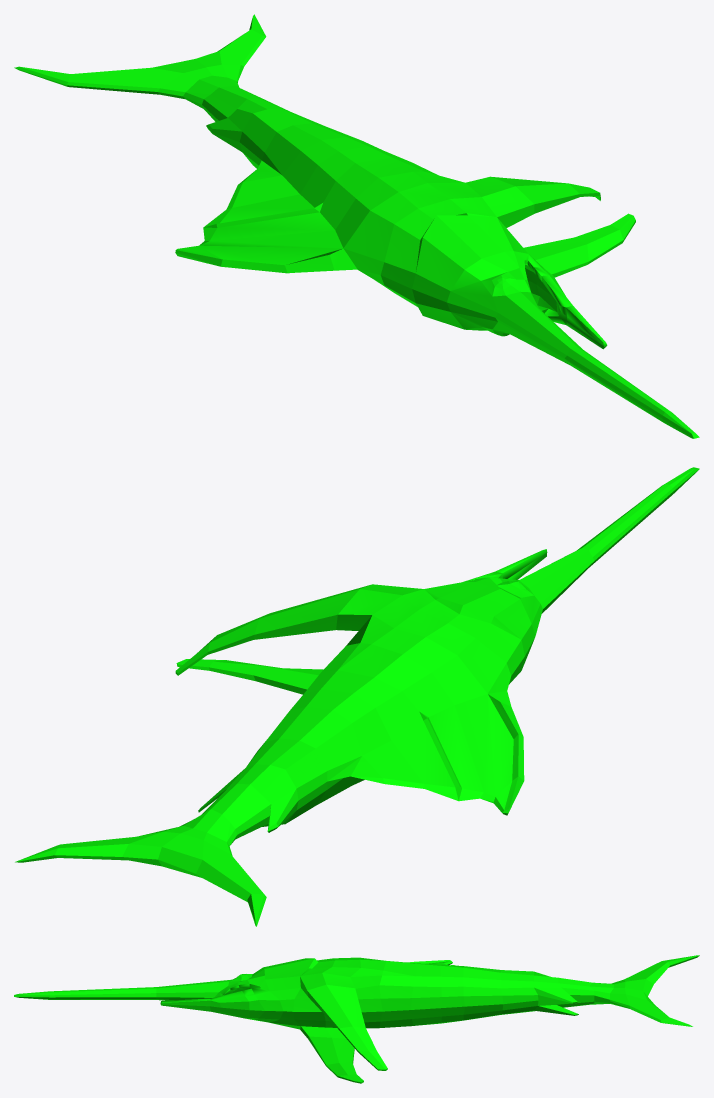
File: SM_Swordfish_Laying.fbx
3 renders of one model, top to bottom at view 1: azimuth 30°, elevation 25°; view 2: azimuth 150°, elevation 25°; view 3: azimuth 270°, elevation 25°, orthographic. The views are drawn at different scales.
Visible parts, largest first — view 1: swordfish-laying; view 2: swordfish-laying; view 3: swordfish-laying.
Part boxes in pixels (x1,y1,x2,y2): swordfish-laying: (14,14,699,438); swordfish-laying: (15,467,699,926); swordfish-laying: (14,955,699,1083).
Bounding box in the file's own units: 1.19 × 0.2981 × 2.93.
